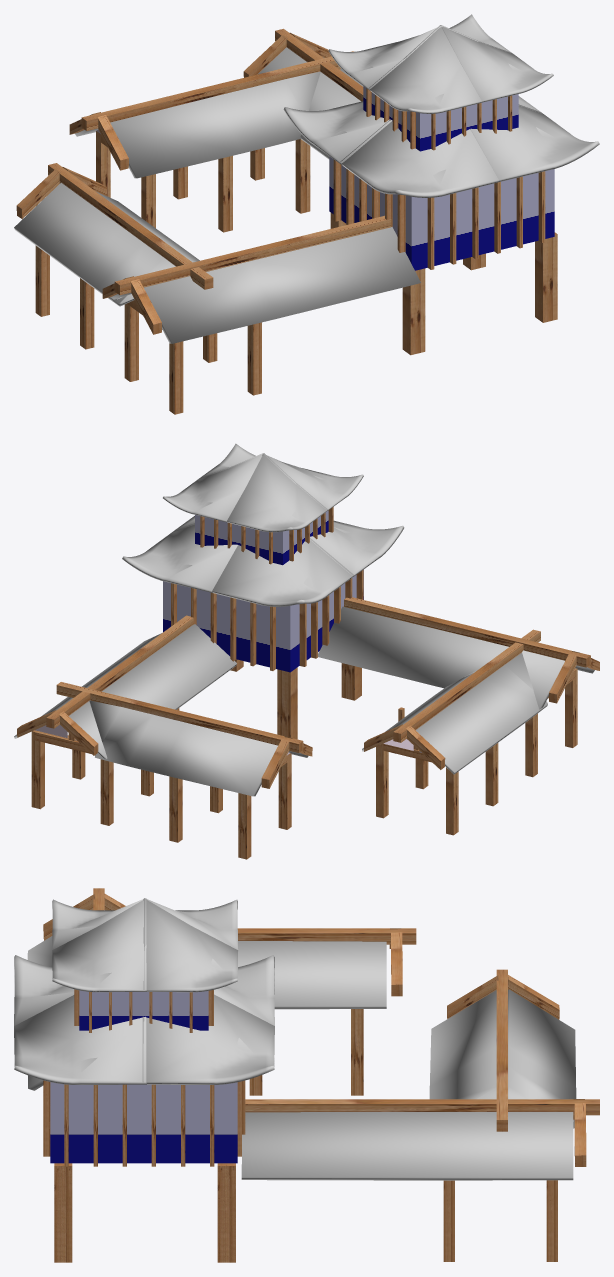
Rendered from Yamato_TownCenter.fbx.
The picture shows the model from 3 angles, top to bottom: view 1: azimuth 30°, elevation 25°; view 2: azimuth 150°, elevation 25°; view 3: azimuth 270°, elevation 25°; orthographic projection. The views are drawn at different scales.
Visible parts, largest first — view 1: sostreToldo, SostreGran, SostrePetit, Cube, columnes, columnesCopia, columnesCentrals, bigaSostre_003, columnaAltellGran_002, bigaSostre_004, Cube_001, bigaSostre_001 (+8 smaller); view 2: sostreToldo, SostreGran, SostrePetit, Cube, columnesCopia, columnes, bigaSostre_003, bigaSostre_004, Cube_001, columnesCentrals, bigaSostre_001, columnaAltellGran_003 (+9 smaller); view 3: sostreToldo, SostreGran, SostrePetit, Cube, bigaSostre_002, Cube_001, columnesCentrals, columnaAltellGran_001, bigaSostre_001, columnesCopia, bigaSostre_004, columnes (+7 smaller).
Boxes of the visible parts, x1,y1,x2,y2 form: sostreToldo: (14,47,420,343); SostreGran: (283,96,599,197); SostrePetit: (328,14,553,113); Cube: (329,156,554,270); columnes: (35,245,261,414); columnesCopia: (96,131,310,232); columnesCentrals: (330,212,557,355); bigaSostre_003: (114,215,391,295); columnaAltellGran_002: (427,171,545,269); bigaSostre_004: (81,51,353,130); Cube_001: (363,86,518,151); bigaSostre_001: (48,163,213,289); sostreToldo: (14,606,594,796); SostreGran: (122,516,404,606); SostrePetit: (163,443,363,532); Cube: (163,569,363,672); columnesCopia: (31,730,291,859); columnes: (376,668,577,835); bigaSostre_003: (344,597,590,667); bigaSostre_004: (56,682,303,752); Cube_001: (195,510,328,565); columnesCentrals: (177,659,361,739); bigaSostre_001: (393,629,540,742); columnaAltellGran_003: (171,583,275,670); sostreToldo: (27,936,576,1180); SostreGran: (14,955,274,1084); SostrePetit: (52,898,238,992); Cube: (50,1082,237,1163); bigaSostre_002: (245,1099,599,1115); Cube_001: (79,990,208,1030); columnesCentrals: (54,1163,235,1262); columnaAltellGran_001: (64,1084,214,1166); bigaSostre_001: (237,928,416,944); columnesCopia: (443,1180,557,1261); bigaSostre_004: (496,969,507,1131); columnes: (249,1009,363,1095).
Bounding box in the file's own units: 12.48 × 7.59 × 12.51.
